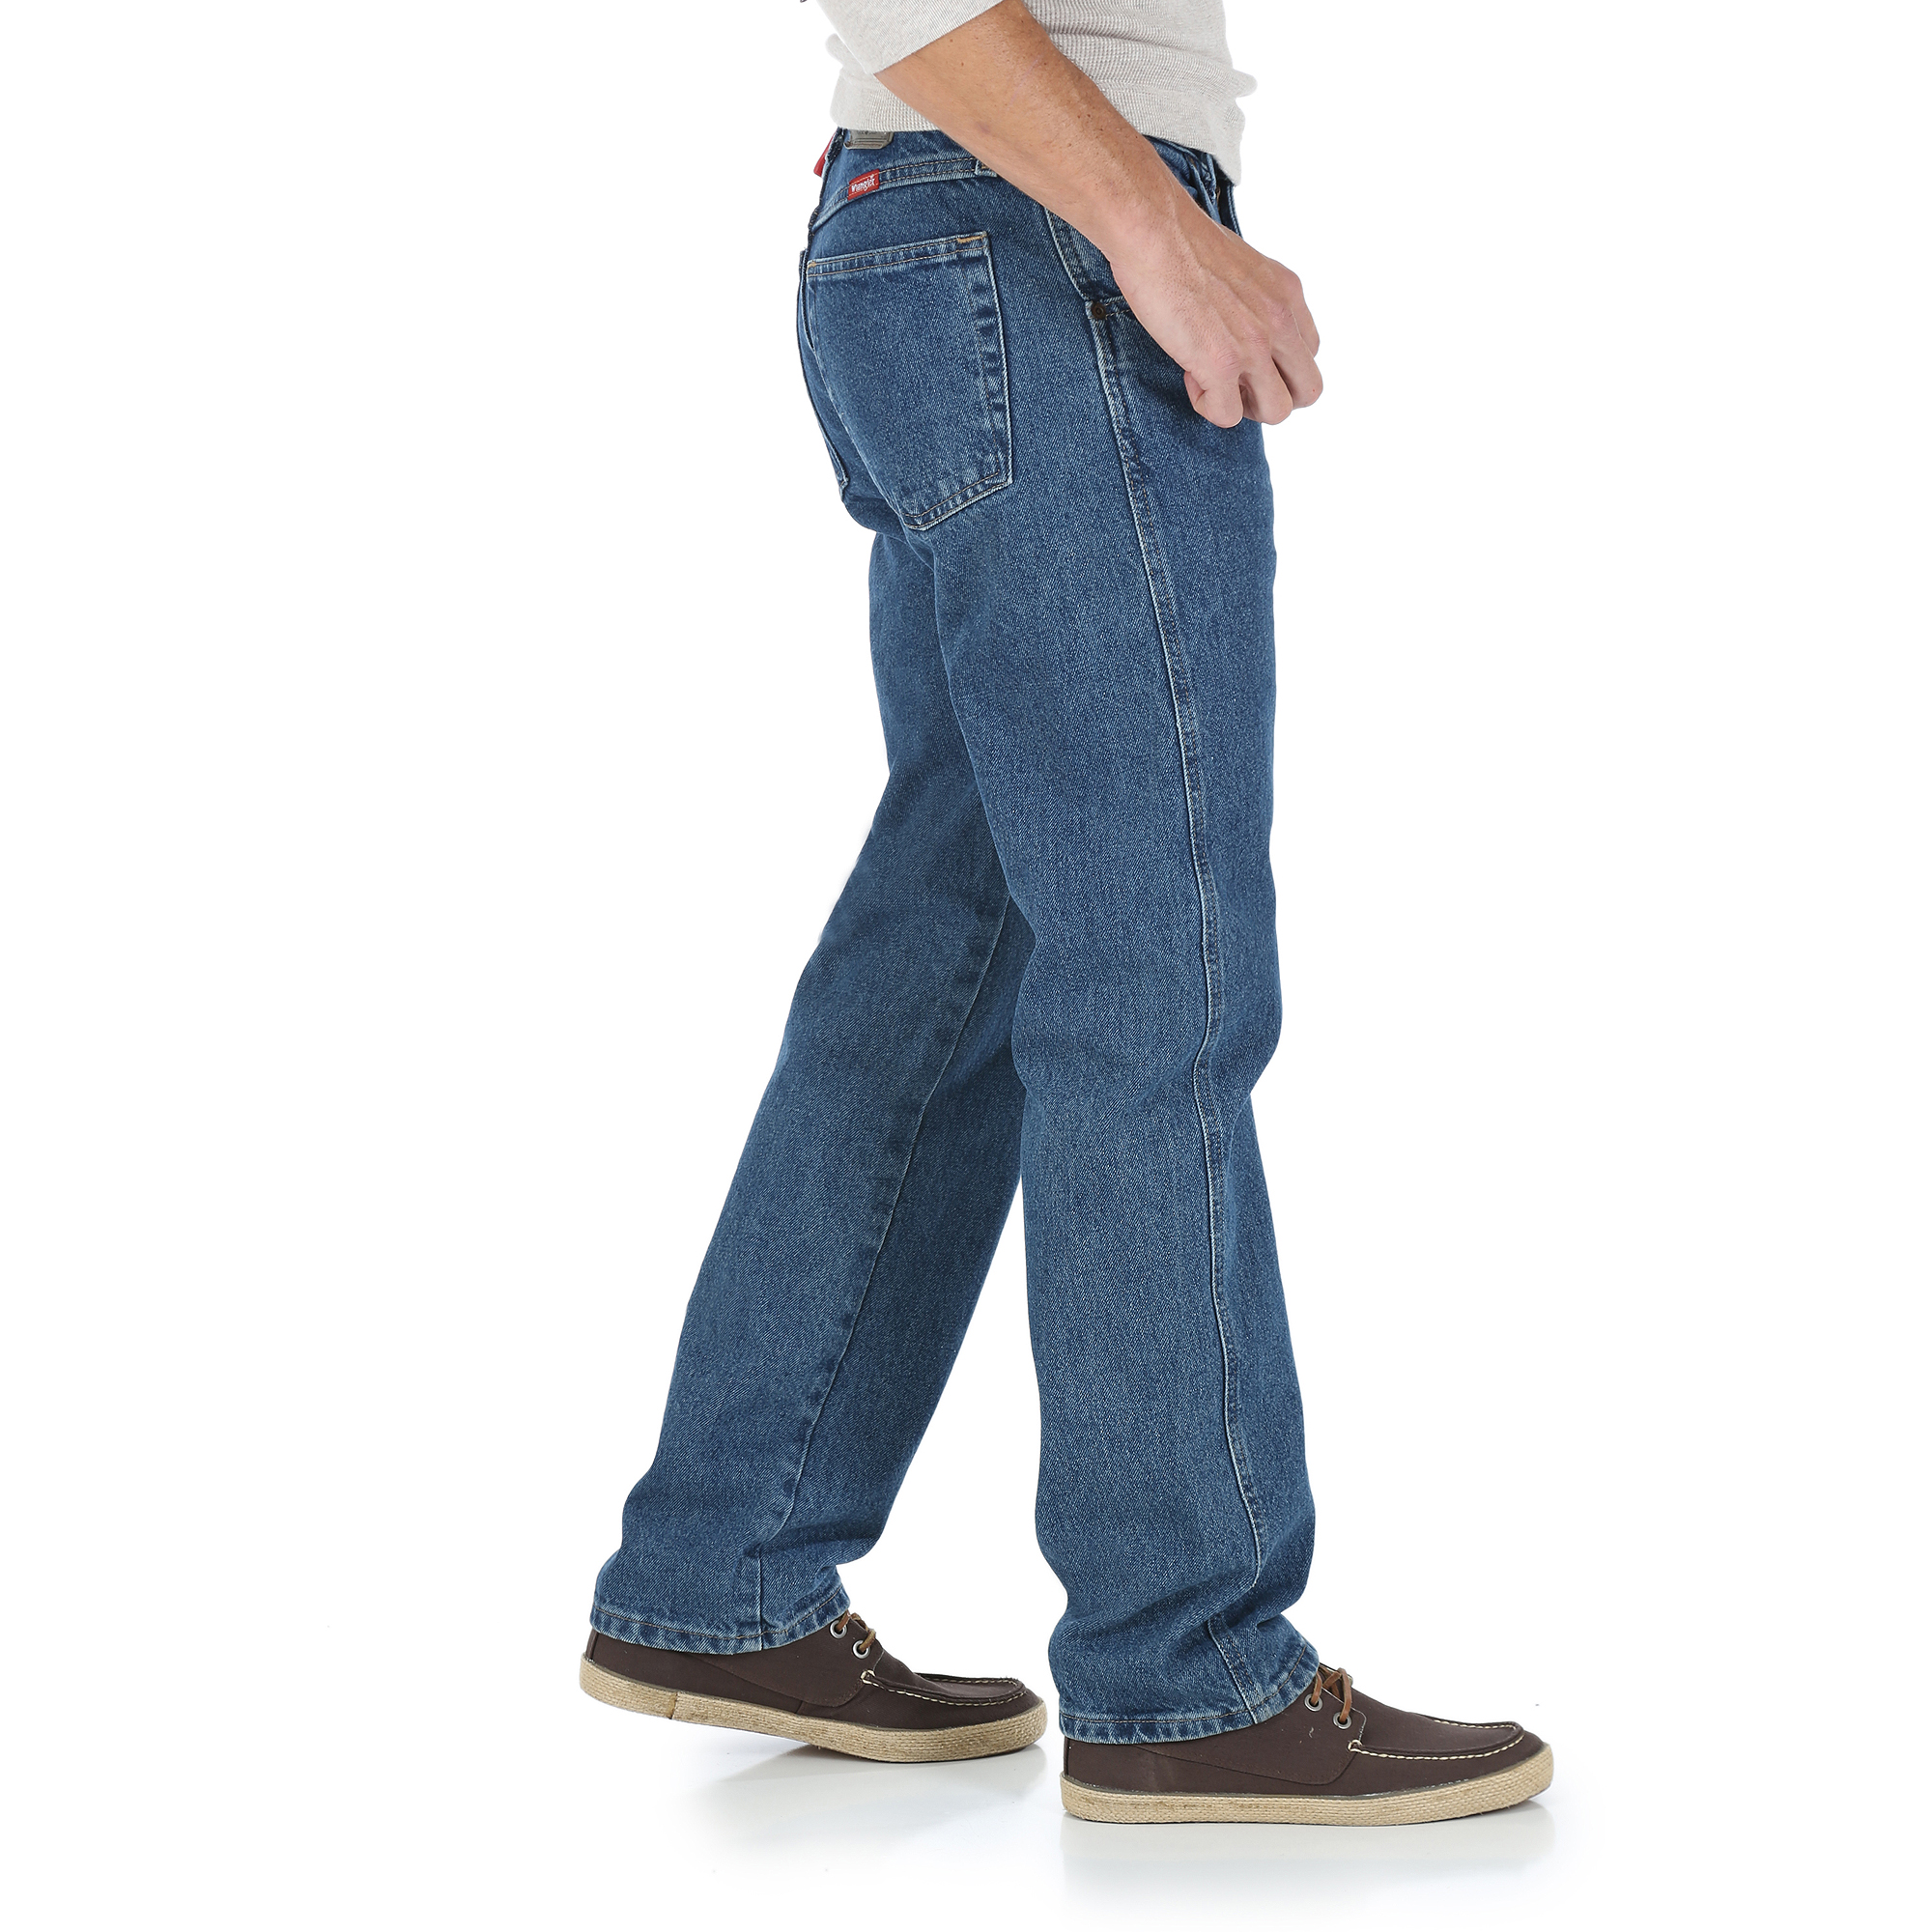jeans: (579, 101, 1394, 1704)
